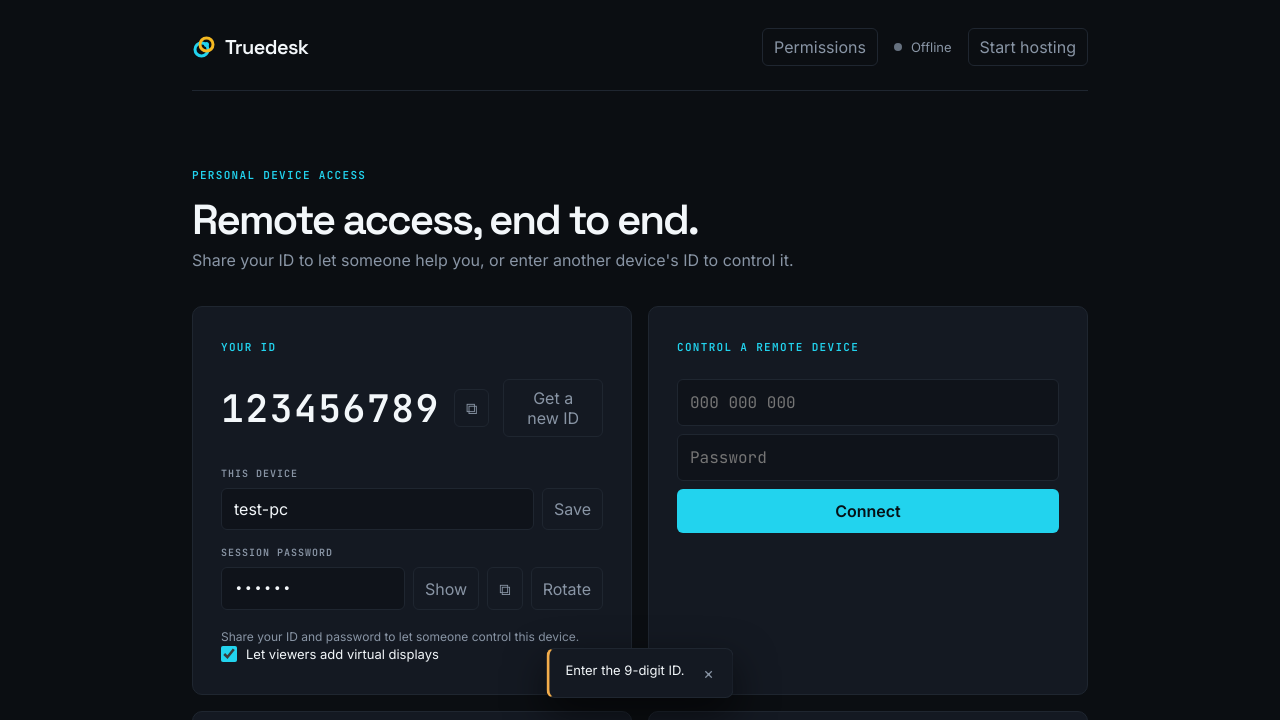
Test: App › shows backend errors as a dismissible toast in plain language
Expected: the text "123456789" is shown, [221, 383, 440, 433]
Expected: the message shows "Enter the 9-digit ID.", [565, 662, 685, 678]
Click the button named "Dismiss". click: (709, 673)
box: [697, 661, 721, 685]
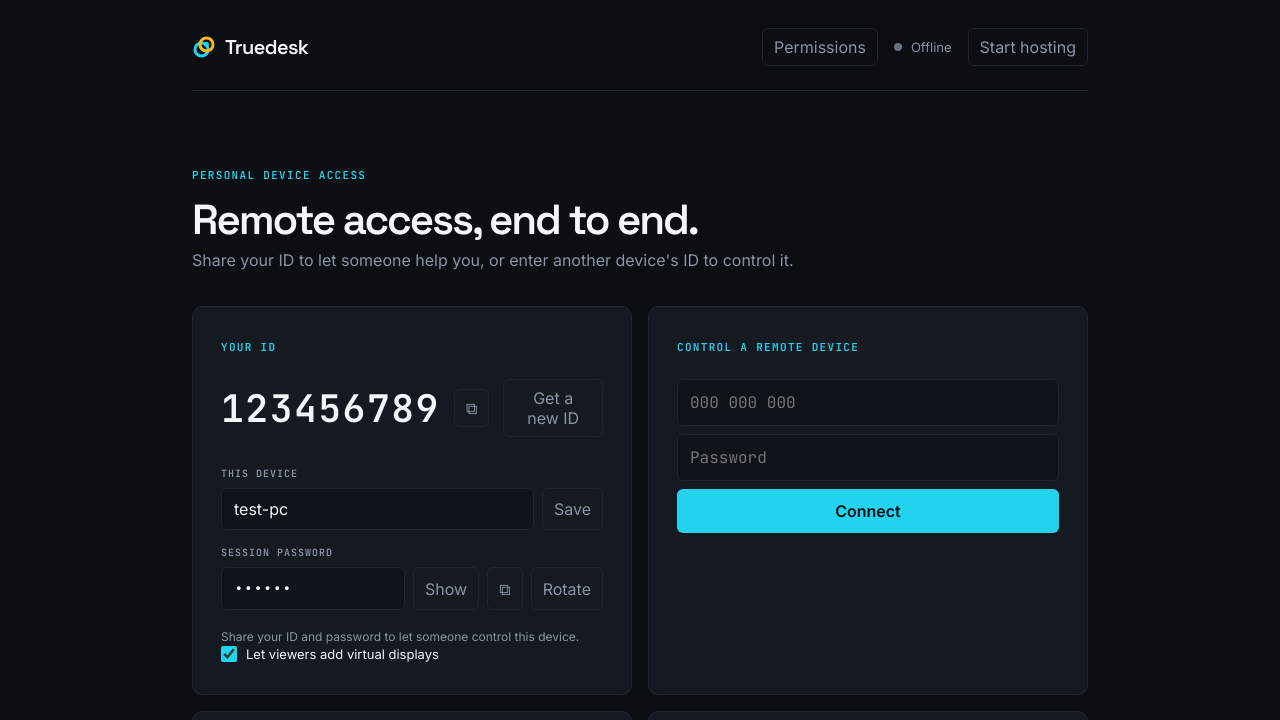
Now the message "Enter the 9-digit ID. ×" is gone
